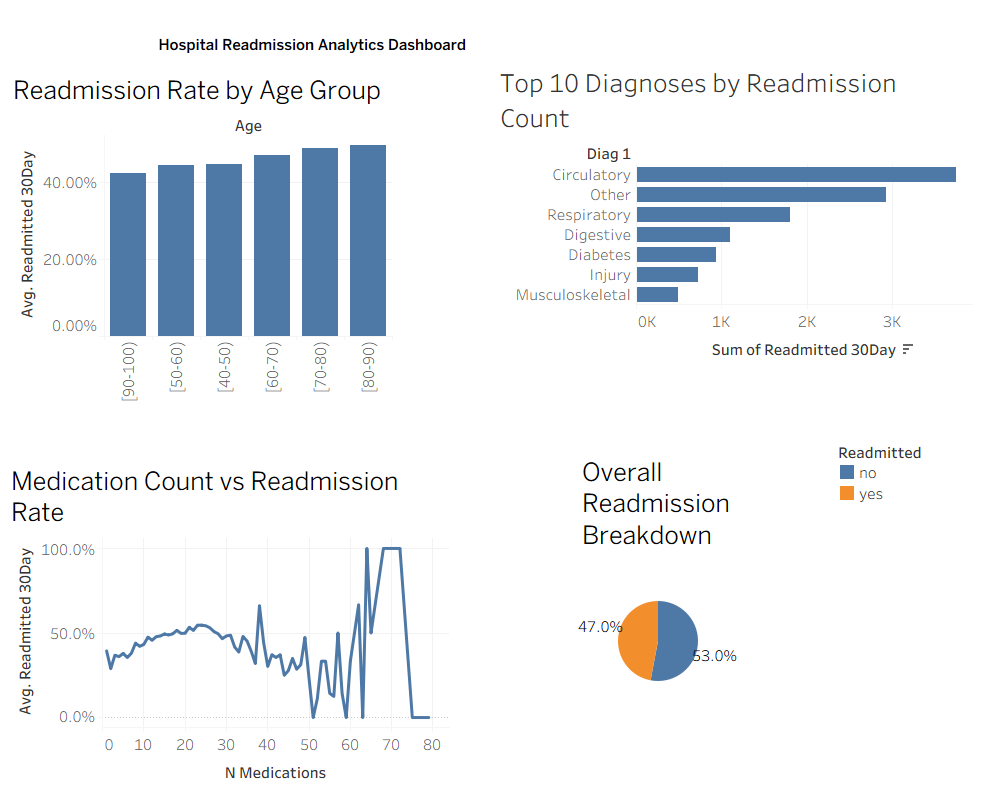

What the dashboard file says about the page in this screenshot:
{"tool":"tableau","page":{"name":"Dashboard 1","canvas":[1000,800],"ordinal":0},"visuals":[{"type":"text","box":[155,16,344,57]},{"type":"worksheet","title":"Sheet 2","mark":"Automatic","rows":["diag_1"],"cols":["readmitted_30day"],"box":[496,59,476,348]},{"type":"worksheet","title":"Sheet 1","mark":"Automatic","rows":["readmitted_30day"],"cols":["age"],"box":[9,68,383,348]},{"type":"legend","title":"Sheet 4","param":"[federated.1q19m5n1qjq4u611occd30jxeccv].[none:readmitted:nk]","box":[837,440,140,64]},{"type":"worksheet","title":"Sheet 4","mark":"Pie","box":[578,450,411,329]},{"type":"worksheet","title":"Sheet 3","mark":"Line","rows":["readmitted_30day"],"cols":["n_medications"],"box":[7,459,442,331]}]}

Visuals, with their boxes in screenshot pixels (x1, y1, x2, y2), scaled from the page's 1000x800 canvas onto the 1000x800 screenshot:
text: {"x1": 155, "y1": 16, "x2": 499, "y2": 73}
"Sheet 2" worksheet: {"x1": 496, "y1": 59, "x2": 972, "y2": 407}
"Sheet 1" worksheet: {"x1": 9, "y1": 68, "x2": 392, "y2": 416}
"Sheet 4" legend: {"x1": 837, "y1": 440, "x2": 977, "y2": 504}
"Sheet 4" worksheet (Pie marks): {"x1": 578, "y1": 450, "x2": 989, "y2": 779}
"Sheet 3" worksheet (Line marks): {"x1": 7, "y1": 459, "x2": 449, "y2": 790}
